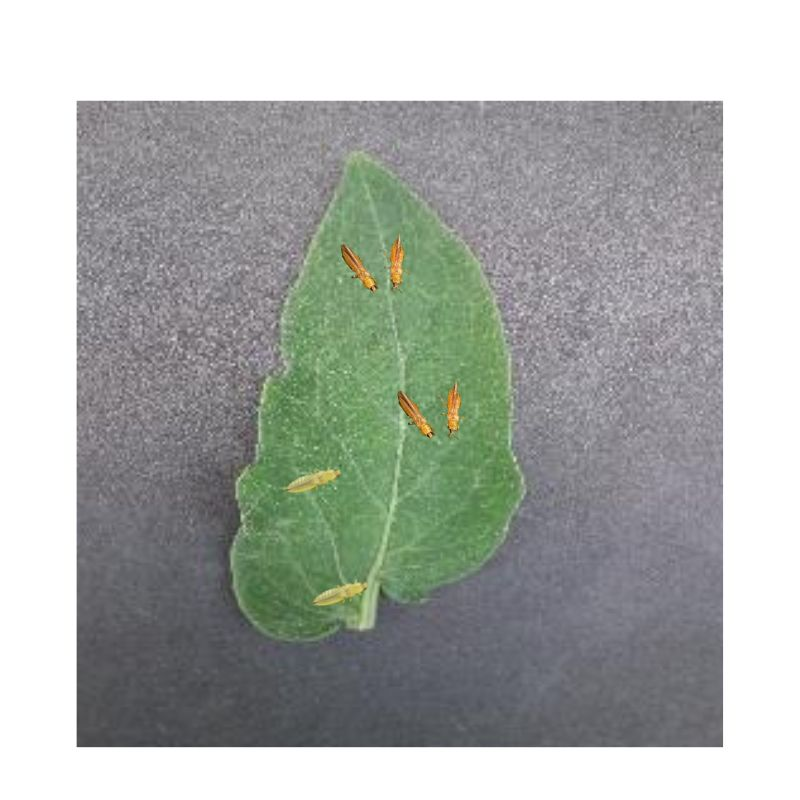thrips: (395, 390, 438, 438), (339, 243, 381, 292), (280, 463, 344, 493), (312, 576, 370, 607), (443, 380, 467, 440), (386, 230, 408, 290)
